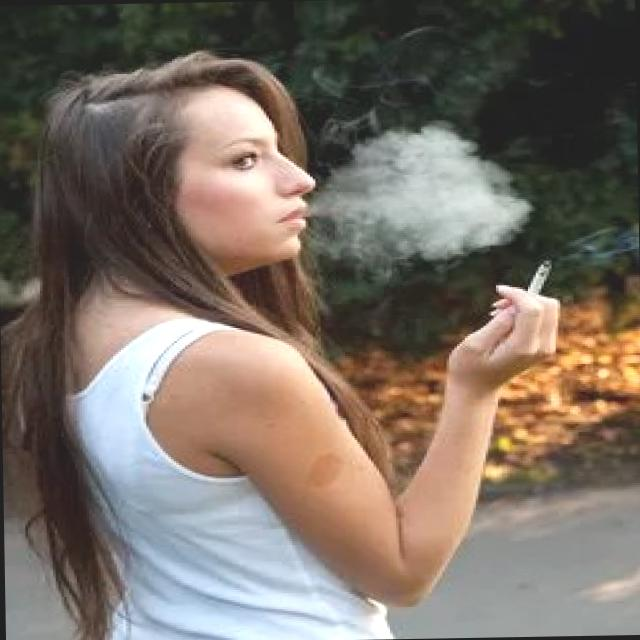smoke: (516, 258, 562, 304)
